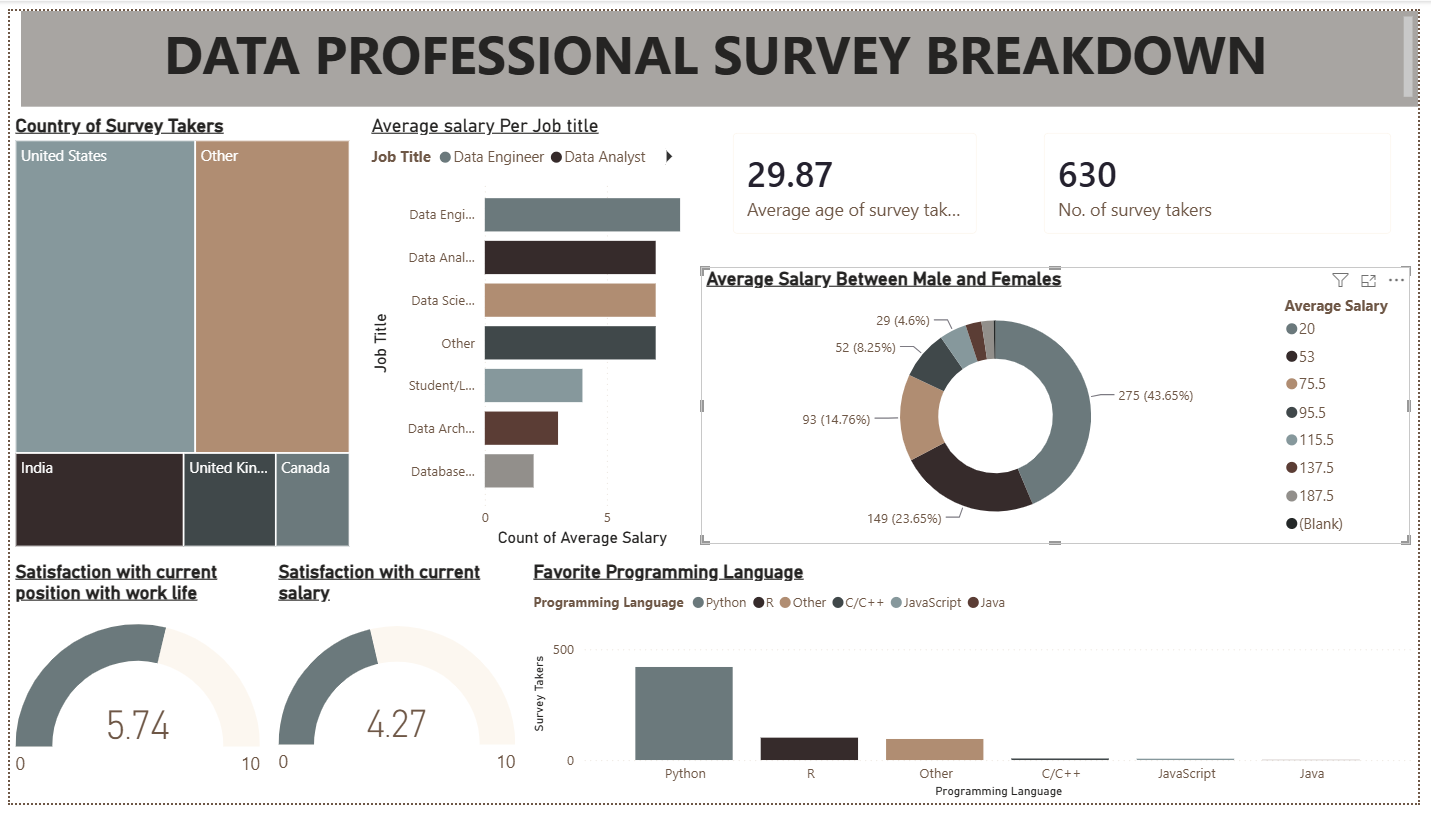

This screenshot's page, from the dashboard's own definition file:
{"tool":"powerbi","page":{"name":"Page 1","canvas":[1280,720],"ordinal":0},"visuals":[{"type":"textbox","box":[9.7,0,1270.3,86.6],"z":0},{"type":"cardVisual","fields":{"Data":["CountNonNull(Data Professional Survey.Unique ID)"]},"box":[922.7,93.6,350,126.4],"z":1},{"type":"cardVisual","fields":{"Data":["Avg(Data Professional Survey.Q10 - Current Age)"]},"box":[640,93.6,256.4,126.4],"z":2},{"type":"barChart","title":"Average salary Per Job title","fields":{"Category":["Data Professional Survey.Q1 - Which Title Best Fits your Current Role?.1"],"Y":["Count(Data Professional Survey.Average Salary)"],"Series":["Data Professional Survey.Q1 - Which Title Best Fits your Current Role?.1"]},"box":[323.6,93.6,294.5,398.2],"z":3},{"type":"columnChart","title":"Favorite Programming Language","fields":{"Category":["Data Professional Survey.Q5 - Favorite Programming Language.1"],"Y":["CountNonNull(Data Professional Survey.Unique ID)"],"Series":["Data Professional Survey.Q5 - Favorite Programming Language.1"]},"box":[470.8,499.1,809.2,220.8],"z":4},{"type":"treemap","title":"Country of Survey Takers","fields":{"Values":["CountNonNull(Data Professional Survey.Unique ID)"],"Details":["Data Professional Survey.Q11 - Which Country do you live in?.1"]},"box":[0,93.6,313.6,398.2],"z":5},{"type":"gauge","title":"Satisfaction with current position with work life","fields":{"Y":["Avg(Data Professional Survey.Q6 - How Happy are you in your Current Position with the following? (Work/Life Balance))"],"MinValue":["Min(Data Professional Survey.Q6 - How Happy are you in your Current Position with the following? (Work/Life Balance))"],"MaxValue":["Max(Data Professional Survey.Q6 - How Happy are you in your Current Position with the following? (Work/Life Balance))"]},"box":[0,499.1,232.3,220.8],"z":6},{"type":"gauge","title":"Satisfaction with current salary  ","fields":{"Y":["Avg(Data Professional Survey.Q6 - How Happy are you in your Current Position with the following? (Salary))"],"MinValue":["Min(Data Professional Survey.Q6 - How Happy are you in your Current Position with the following? (Salary))"],"MaxValue":["Max(Data Professional Survey.Q6 - How Happy are you in your Current Position with the following? (Salary))"],"TargetValue":["Sum(Data Professional Survey.Q6 - How Happy are you in your Current Position with the following? (Salary))"]},"box":[239.4,499.1,225.3,220.8],"z":7},{"type":"donutChart","title":"Average Salary Between Male and Females","fields":{"Category":["Data Professional Survey.Average Salary"],"Y":["CountNonNull(Data Professional Survey.Q9 - Male/Female?)"]},"box":[628.2,232.7,644.5,251.8],"z":8}]}

Visuals, with their boxes in screenshot pixels (x1, y1, x2, y2):
textbox: pyautogui.locateOnScreen(14, 4, 1415, 99)
cardVisual - CountNonNull(Data Professional Survey.Unique ID): pyautogui.locateOnScreen(1021, 107, 1407, 246)
cardVisual - Avg(Data Professional Survey.Q10 - Current Age): pyautogui.locateOnScreen(709, 107, 992, 246)
"Average salary Per Job title" barChart: pyautogui.locateOnScreen(361, 107, 685, 546)
"Favorite Programming Language" columnChart: pyautogui.locateOnScreen(523, 554, 1415, 797)
"Country of Survey Takers" treemap: pyautogui.locateOnScreen(4, 107, 349, 546)
"Satisfaction with current position with work life" gauge: pyautogui.locateOnScreen(4, 554, 260, 797)
"Satisfaction with current salary  " gauge: pyautogui.locateOnScreen(268, 554, 516, 797)
"Average Salary Between Male and Females" donutChart: pyautogui.locateOnScreen(696, 260, 1407, 538)
